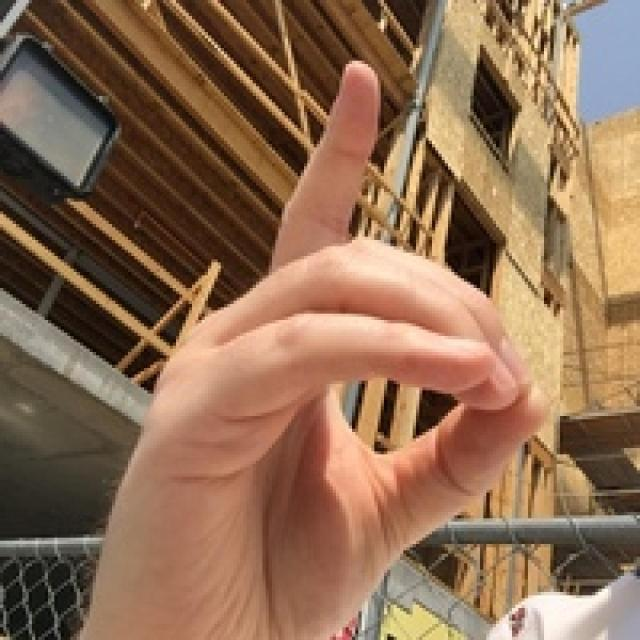D: (57, 40, 603, 640)
